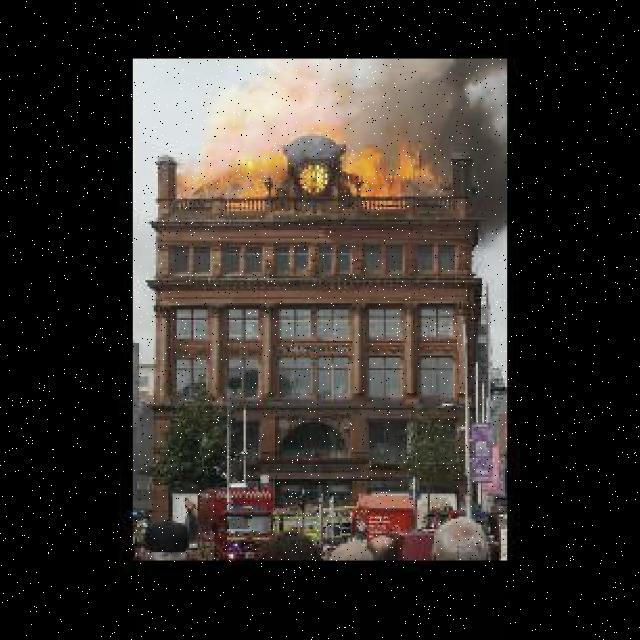fire: (183, 128, 442, 214)
smoke: (438, 58, 503, 249)
